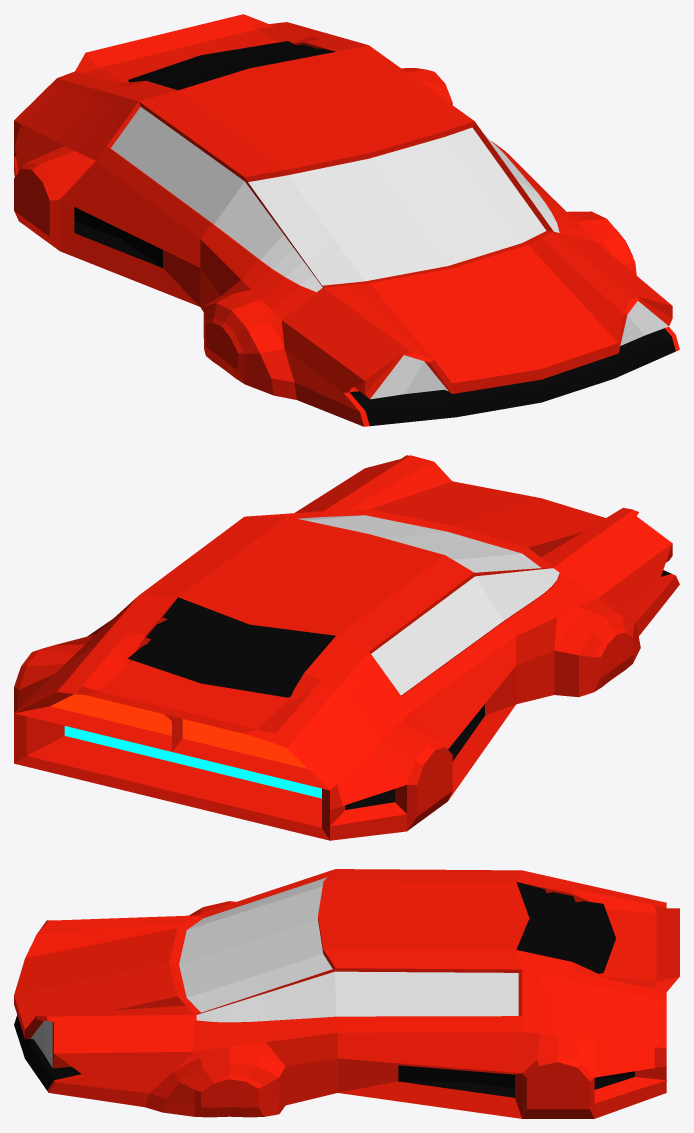
Rendered from Lambo.fbx.
The picture shows the model from 3 angles, top to bottom: view 1: azimuth 30°, elevation 25°; view 2: azimuth 150°, elevation 25°; view 3: azimuth 270°, elevation 25°; orthographic projection. The views are drawn at different scales.
Visible parts, largest first — view 1: Cube; view 2: Cube; view 3: Cube.
Part boxes in pixels (bbox=[...]): Cube: bbox=[14, 14, 679, 426]; Cube: bbox=[14, 455, 679, 840]; Cube: bbox=[14, 869, 679, 1118].
Bounding box in the file's own units: 589 × 190 × 955.
